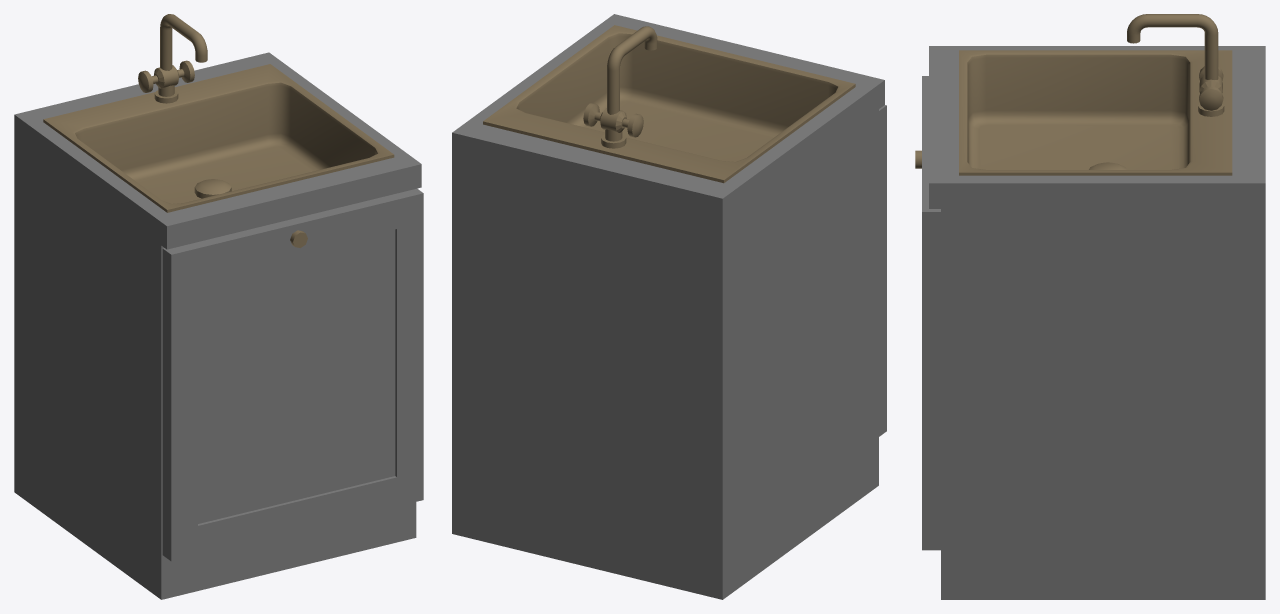
The model's file is Rakovina.fbx.
3 renders of one model, left to right at view 1: azimuth 30°, elevation 25°; view 2: azimuth 150°, elevation 25°; view 3: azimuth 270°, elevation 25°, orthographic. The views are drawn at different scales.
Visible parts, largest first — view 1: Rakovina; view 2: Rakovina; view 3: Rakovina.
Boxes of the visible parts, x1,y1,x2,y2 form: Rakovina: [14, 14, 423, 599]; Rakovina: [452, 14, 886, 599]; Rakovina: [915, 14, 1265, 599].
Size of the model in its own units: 60 by 105 by 64.77.
